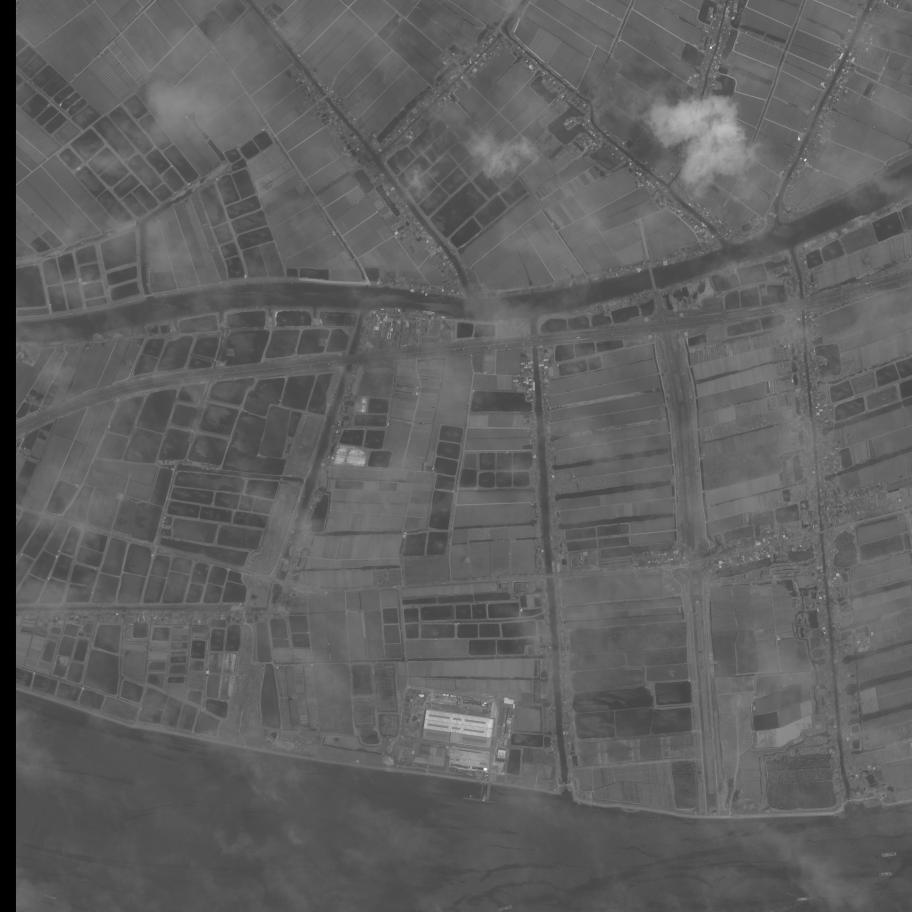ship: (41, 892, 58, 903), (880, 851, 898, 858), (498, 905, 512, 912), (795, 896, 810, 902), (879, 872, 895, 877)
